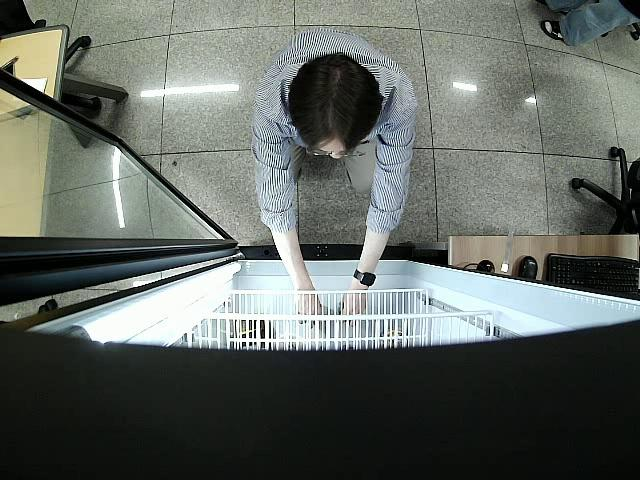00_hand: (338, 283, 373, 328), (297, 286, 330, 330)
